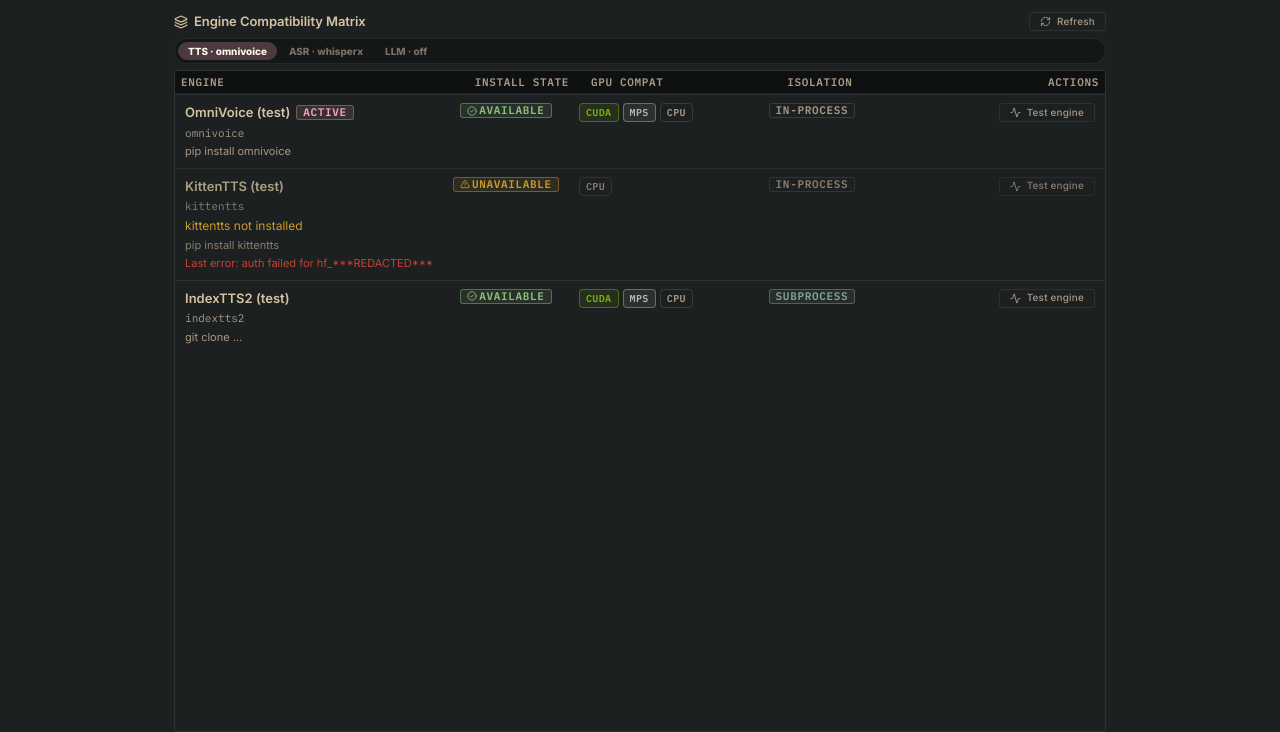
Test: EngineCompatibilityMatrix › renders a failure marker when the health route returns ok=false
Expected: the text "IndexTTS2 (test)" is shown, [185,288,290,308]
Click the button with aria-label "test indextts2". click: x=1047, y=298
box: [999,288,1095,308]
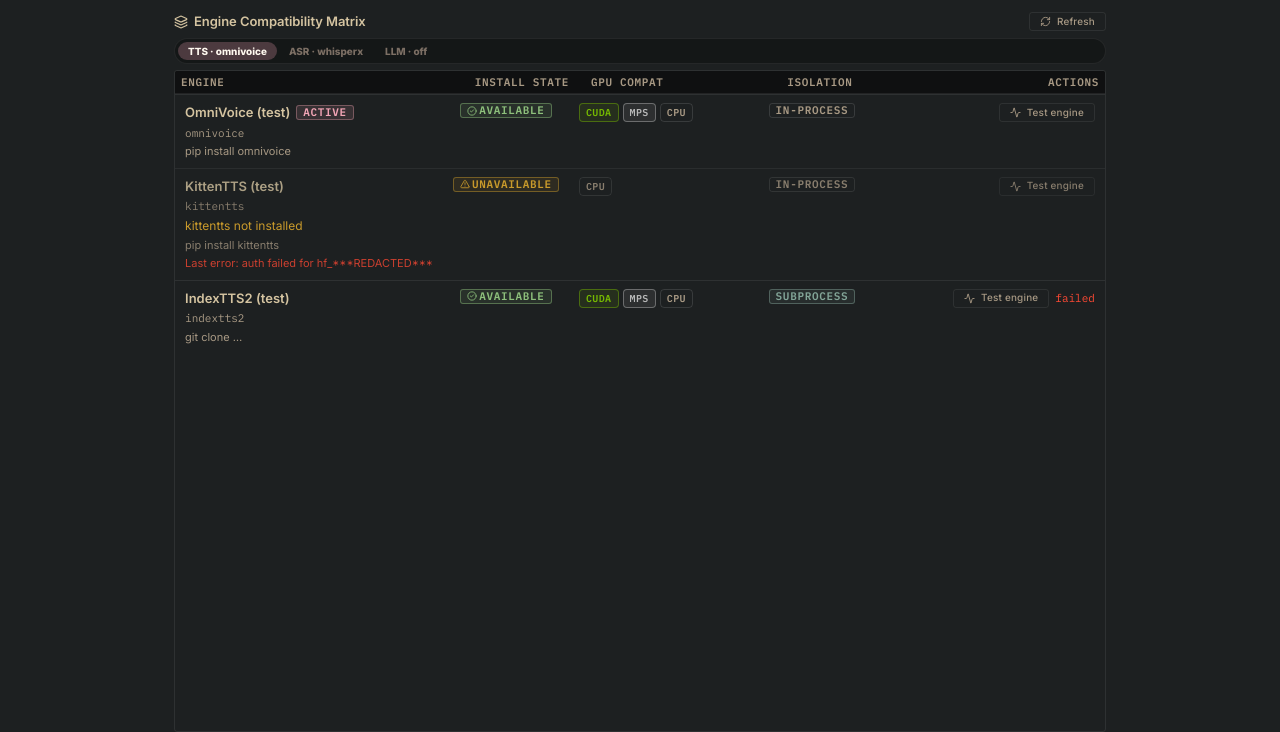
Result: the text "failed" is shown at [1055,290,1095,306]
